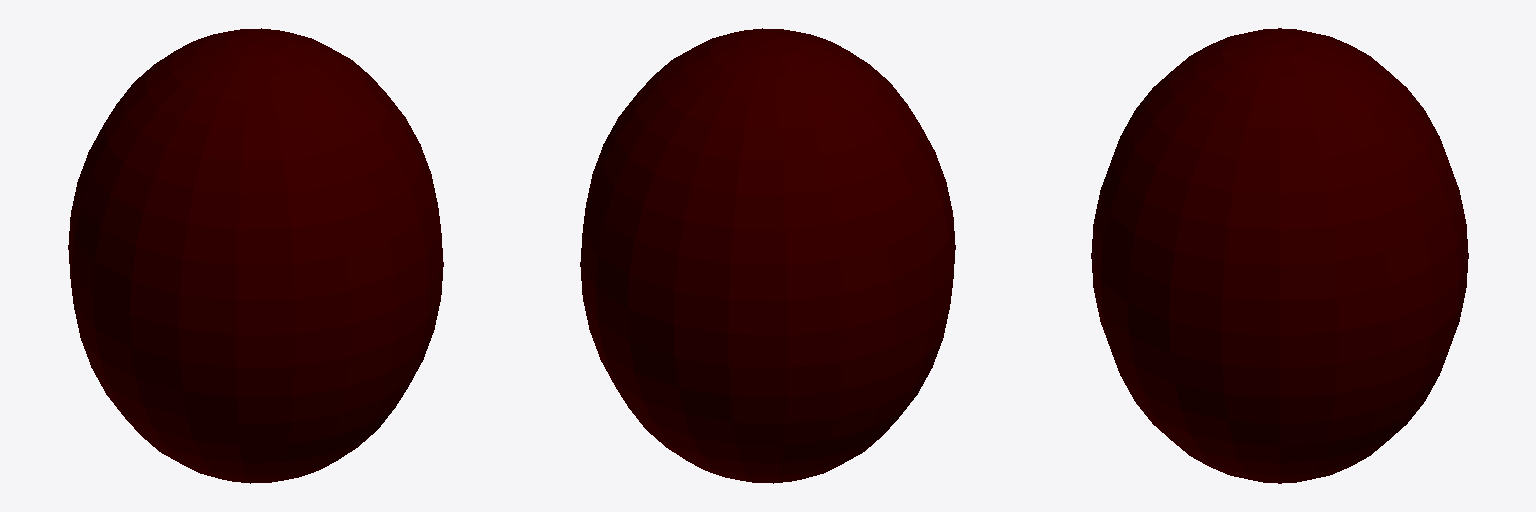
File: Red.obj
The picture shows the model from 3 angles: view 1: azimuth 30°, elevation 25°; view 2: azimuth 150°, elevation 25°; view 3: azimuth 270°, elevation 25°; orthographic projection.
Visible parts, largest first — view 1: pSphere1; view 2: pSphere1; view 3: pSphere1.
Boxes of the visible parts, box(x1,y1,x2,y2) form: pSphere1: box(68, 28, 443, 483); pSphere1: box(580, 28, 955, 483); pSphere1: box(1091, 28, 1468, 483).
Size of the model in its own units: 1.6 by 2 by 1.6.